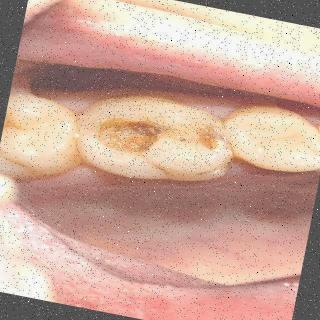cavities: (86, 90, 230, 184)
